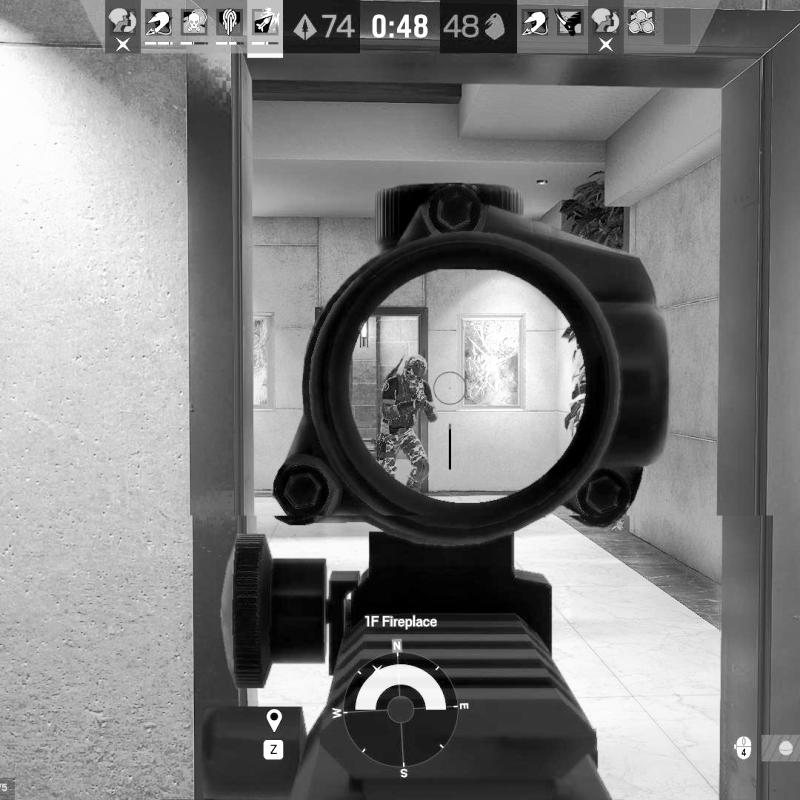Character: (373, 351, 442, 490)
Head: (403, 354, 429, 385)
